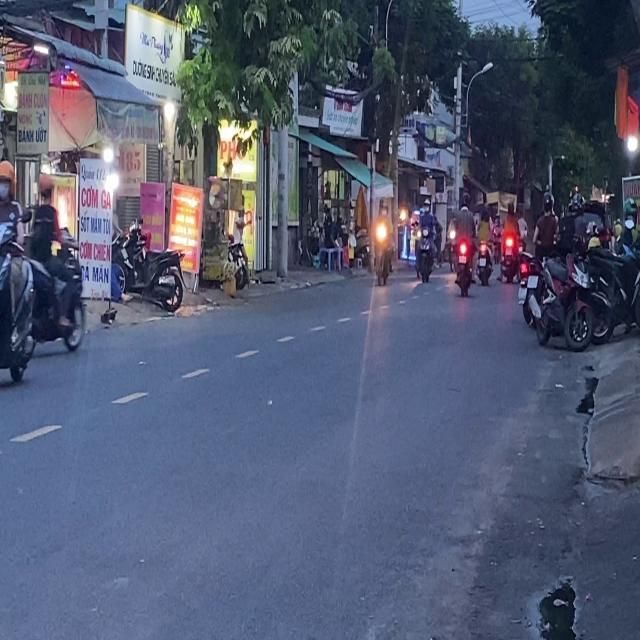helmet: (36, 172, 54, 203), (0, 159, 14, 198)
licenseplate: (25, 169, 86, 365), (0, 156, 36, 394)
